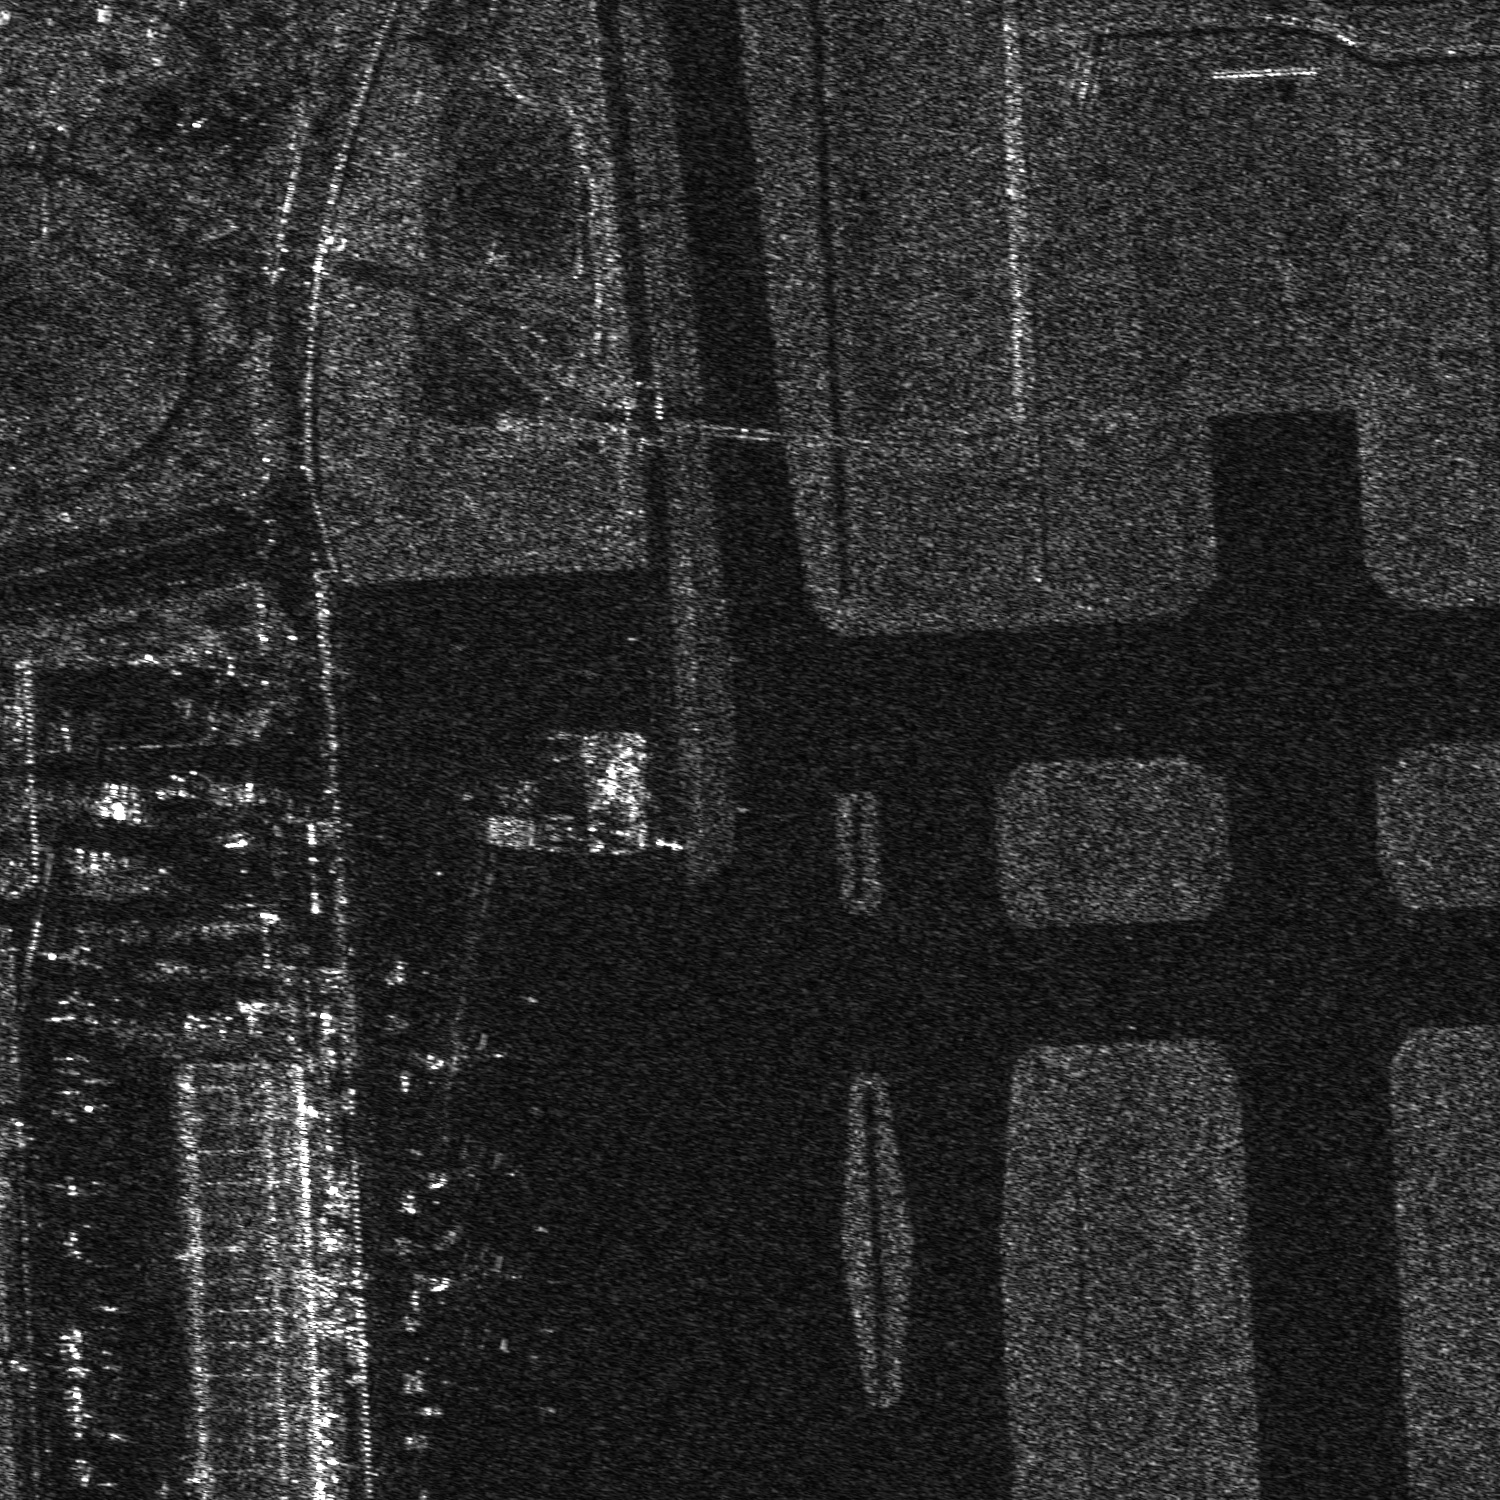A320/321: (407, 1243, 529, 1315), (422, 1136, 523, 1201)
Boeing737: (413, 1026, 510, 1099)
